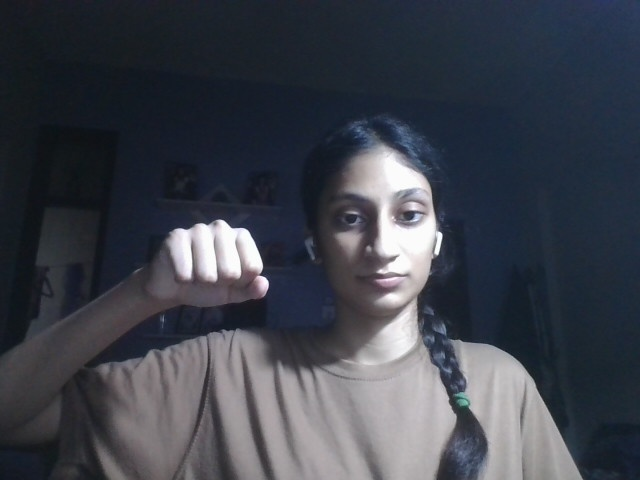yes: (150, 216, 274, 321)
